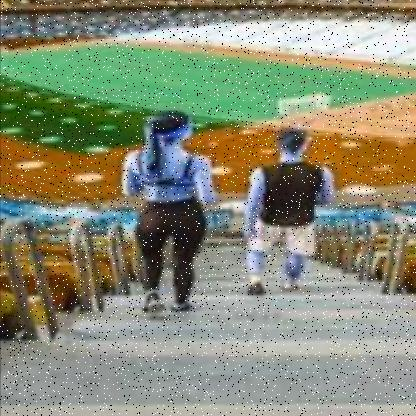stair_down: (116, 294, 348, 402)
